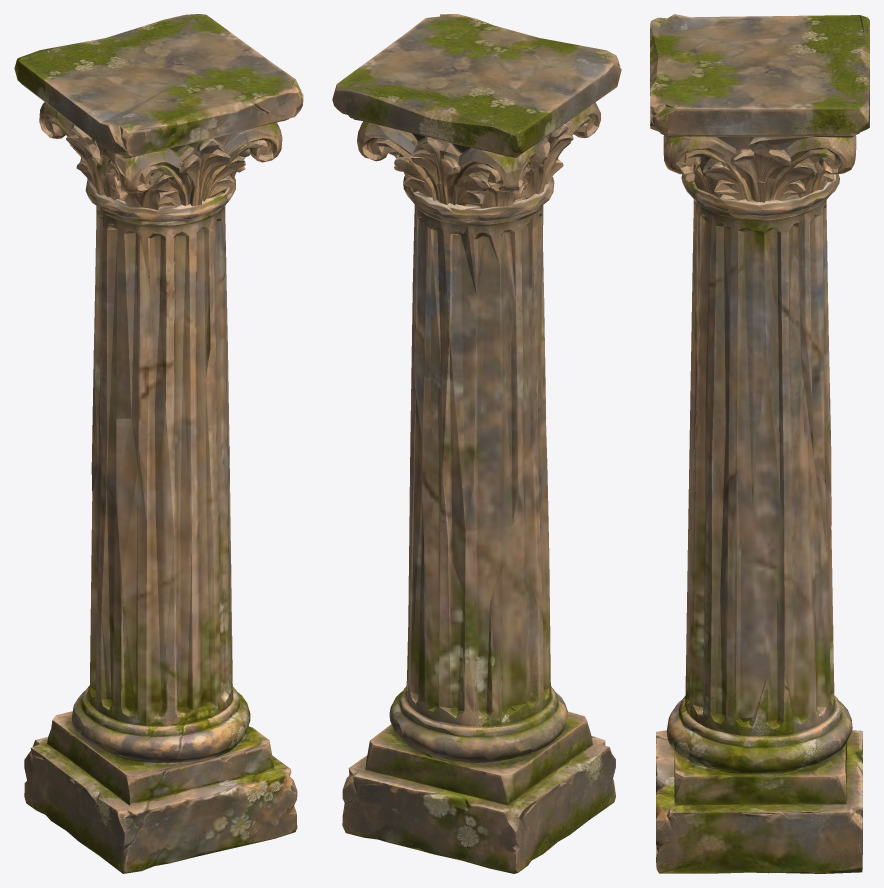
File: column.glb
The picture shows the model from 3 angles, left to right: view 1: azimuth 30°, elevation 25°; view 2: azimuth 150°, elevation 25°; view 3: azimuth 270°, elevation 25°; orthographic projection. The views are drawn at different scales.
Parts seen in each view (by area): view 1: Mesh_0; view 2: Mesh_0; view 3: Mesh_0.
Boxes of the visible parts, x1=… form: Mesh_0: x1=14, y1=14, x2=303, y2=873; Mesh_0: x1=332, y1=14, x2=621, y2=873; Mesh_0: x1=650, y1=14, x2=869, y2=873.
Size of the model in its own units: 0.5018 by 1.9 by 0.4917.
1 material, 1 textured.
